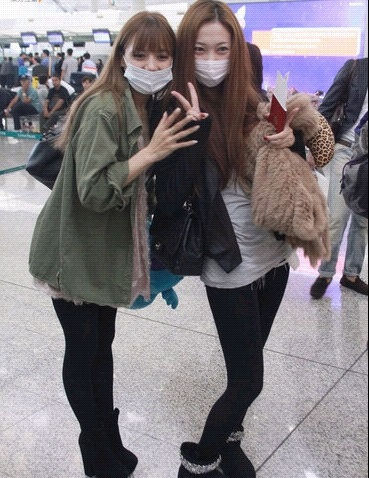face_mask: (125, 32, 171, 96), (191, 22, 231, 89), (82, 74, 93, 92), (21, 76, 29, 89)
